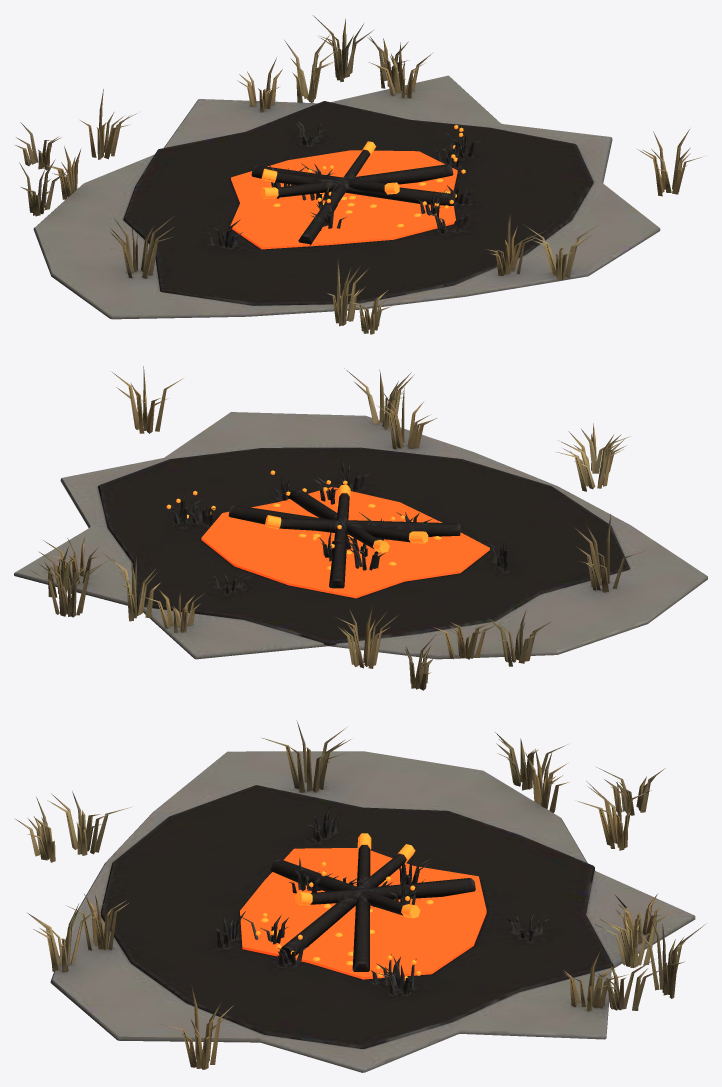
The model's file is spot_fire.glb.
3 renders of one model, top to bottom at view 1: azimuth 30°, elevation 25°; view 2: azimuth 150°, elevation 25°; view 3: azimuth 270°, elevation 25°, orthographic. The views are drawn at different scales.
Parts seen in each view (by area): view 1: spot_fire, spot_fire_glow; view 2: spot_fire, spot_fire_glow; view 3: spot_fire, spot_fire_glow.
Boxes of the visible parts, left/top/right/bottom form: spot_fire: left=15, top=15, right=703, bottom=334; spot_fire_glow: left=230, top=125, right=465, bottom=249; spot_fire: left=14, top=366, right=707, bottom=690; spot_fire_glow: left=166, top=470, right=489, bottom=598; spot_fire: left=15, top=720, right=705, bottom=1072; spot_fire_glow: left=240, top=833, right=486, bottom=980.
Size of the model in its own units: 4.01 by 0.3843 by 3.59.
Materials: 3 (1 with a texture image).
